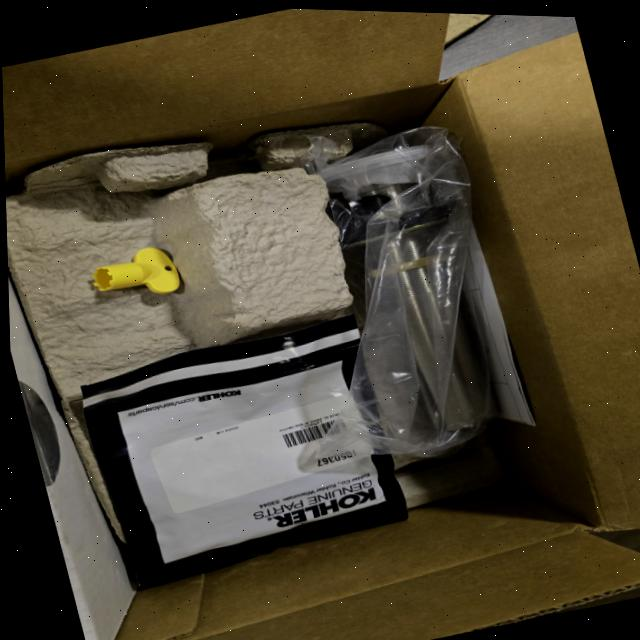11: (300, 126, 493, 455)
13o: (81, 314, 405, 584)
14: (91, 247, 179, 292)
8: (461, 225, 533, 425)
